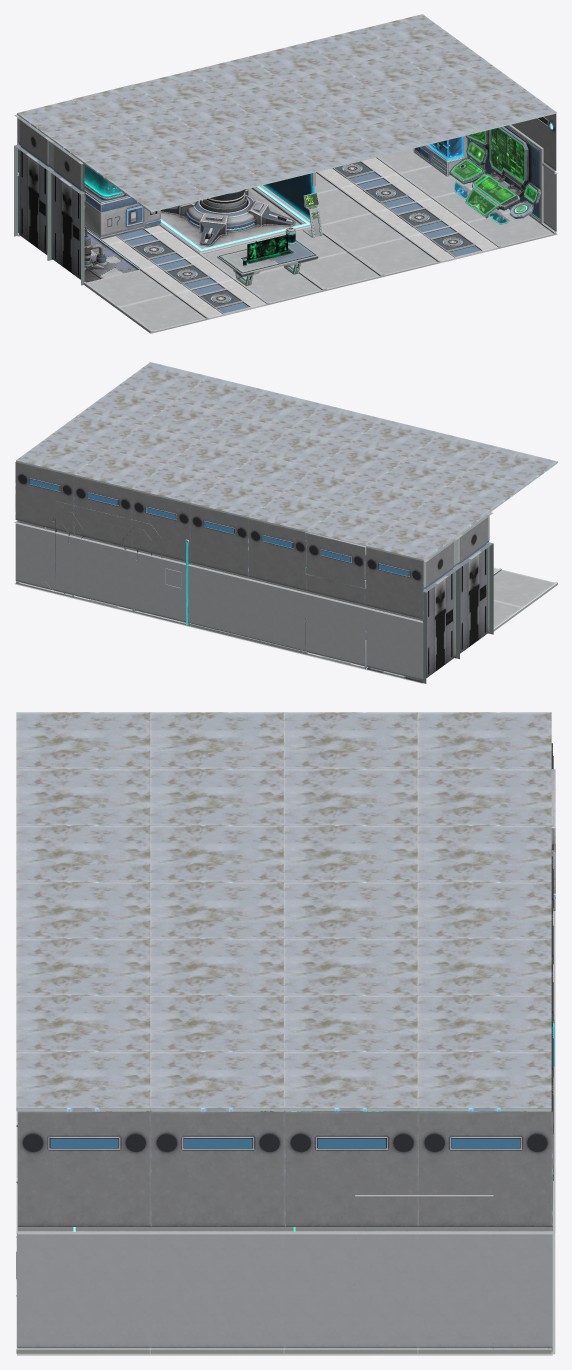
Rendered from lab.glb.
3 views of the same model, one above another, from view 1: azimuth 30°, elevation 25°; view 2: azimuth 150°, elevation 25°; view 3: azimuth 270°, elevation 25° (orthographic). The views are drawn at different scales.
Visible parts, largest first — view 1: Object_15, Object_29, Object_4, Object_8, Object_3, Object_11, Object_12, Object_18, Object_5, Object_14, Object_2, Object_28 (+8 smaller); view 2: Object_15, Object_27, Object_30, Object_8, Object_29, Object_5, Object_18, Object_9, Object_12, Object_4; view 3: Object_15, Object_28, Object_30, Object_29, Object_27.
Part boxes in pixels (x1,y1,x2,y2): Object_15: (17,14,556,212); Object_29: (83,148,556,333); Object_4: (87,157,498,319); Object_8: (14,144,140,285); Object_3: (449,126,540,224); Object_11: (161,189,294,246); Object_12: (159,186,310,254); Object_18: (73,84,160,239); Object_5: (14,114,85,193); Object_14: (217,239,318,286); Object_2: (472,125,543,223); Object_28: (511,114,557,174); Object_15: (16,362,557,561); Object_27: (15,462,423,622); Object_30: (14,524,423,683); Object_8: (365,542,493,683); Object_29: (16,568,557,632); Object_5: (423,512,492,590); Object_18: (305,531,366,666); Object_9: (45,503,181,612); Object_12: (190,623,307,654); Object_4: (74,567,498,668); Object_15: (16,712,551,1111); Object_28: (17,1111,552,1234); Object_30: (17,1232,555,1355); Object_29: (16,1111,551,1353); Object_27: (547,743,555,1232).
Bounding box in the file's own units: 14.16 × 4.05 × 8.06.
28 materials, 26 textured.
